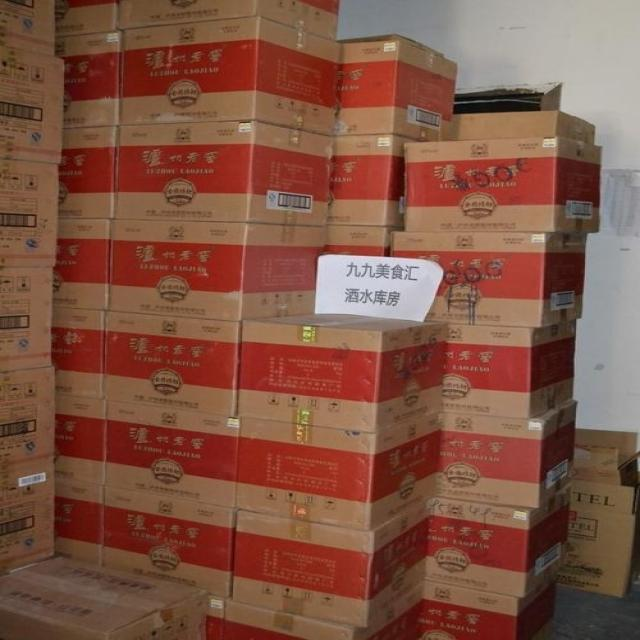box: (117, 19, 343, 137), (232, 501, 434, 628), (236, 310, 448, 431), (114, 116, 336, 225), (238, 412, 439, 529), (108, 219, 327, 320), (403, 133, 602, 232), (390, 228, 589, 326), (0, 554, 209, 639), (428, 477, 572, 595), (100, 483, 239, 596), (103, 396, 237, 511), (437, 397, 575, 508), (100, 309, 241, 413), (442, 316, 579, 415), (560, 427, 639, 598), (336, 35, 463, 139), (221, 585, 422, 637), (420, 572, 557, 637), (119, 2, 339, 39), (322, 134, 408, 226), (2, 46, 66, 164), (0, 157, 64, 268), (1, 463, 60, 576), (54, 123, 122, 220), (57, 28, 121, 125), (52, 214, 114, 309), (3, 365, 57, 471), (2, 263, 53, 374), (50, 304, 108, 399), (53, 391, 106, 484), (451, 110, 599, 140), (57, 475, 103, 560), (0, 1, 58, 55), (322, 223, 394, 257), (55, 1, 119, 35), (198, 589, 231, 638)
